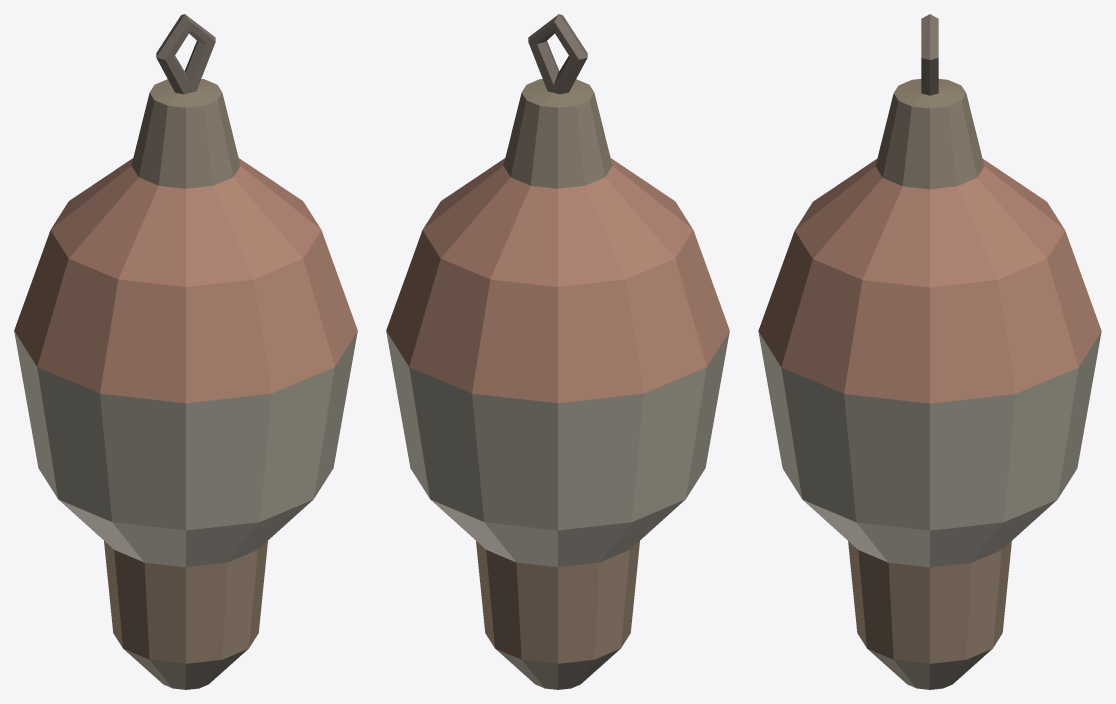
The model's file is marker_float.glb.
3 renders of one model, left to right at view 1: azimuth 30°, elevation 25°; view 2: azimuth 150°, elevation 25°; view 3: azimuth 270°, elevation 25°, orthographic.
Visible parts, largest first — view 1: marker_float; view 2: marker_float; view 3: marker_float.
Boxes of the visible parts, <box> form: marker_float: <box>14,14,357,689</box>; marker_float: <box>386,14,729,689</box>; marker_float: <box>758,14,1101,689</box>.
Size of the model in its own units: 0.17 by 0.363 by 0.17.
